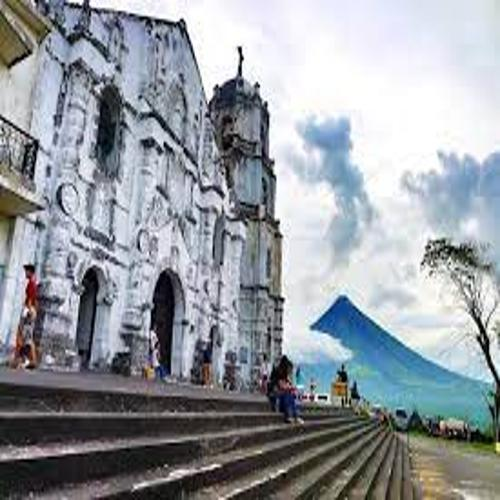Daraga Church: (47, 1, 286, 396)
